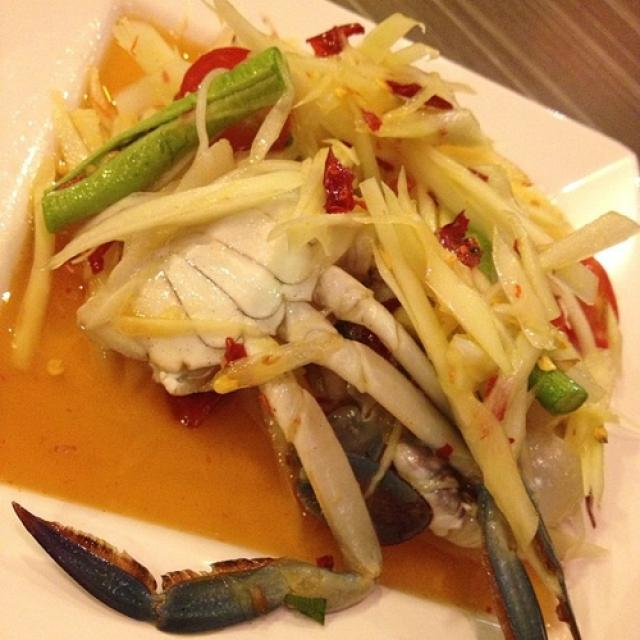蔬菜料理: (29, 26, 603, 613)
